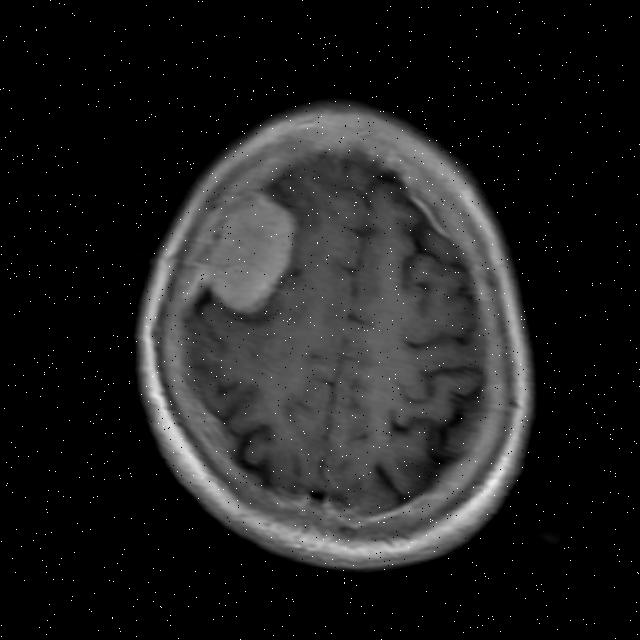Meningioma: (190, 179, 310, 323)
